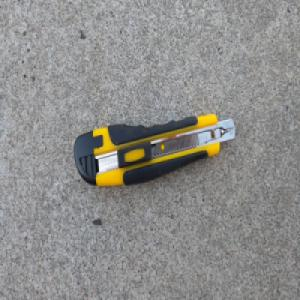Cutter: (72, 112, 235, 188)
